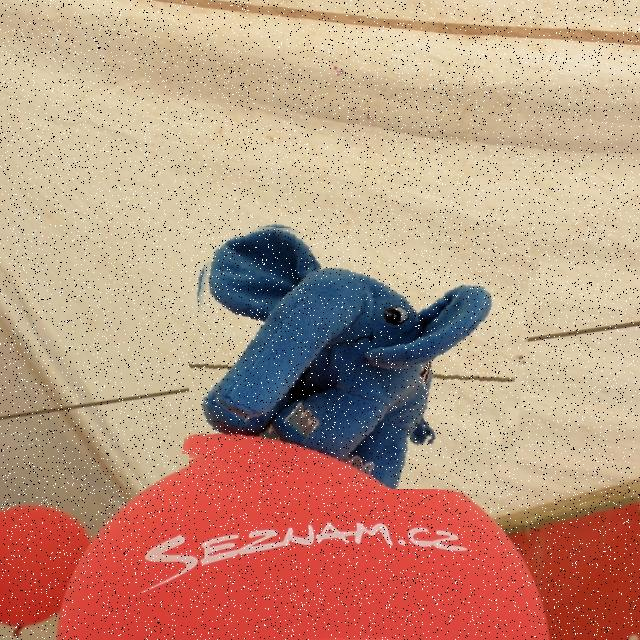elephant: (189, 223, 532, 489)
